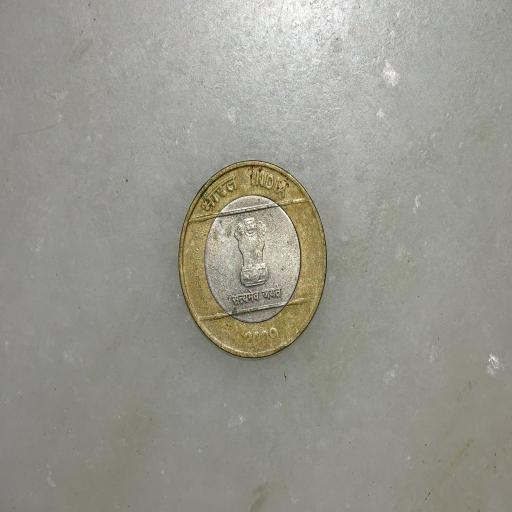rupee10: (176, 158, 329, 362)
